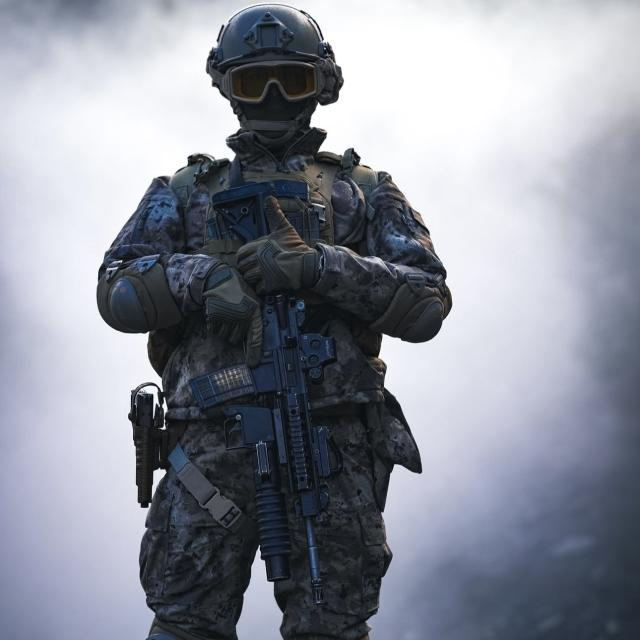poh_personel: (96, 2, 455, 640)
